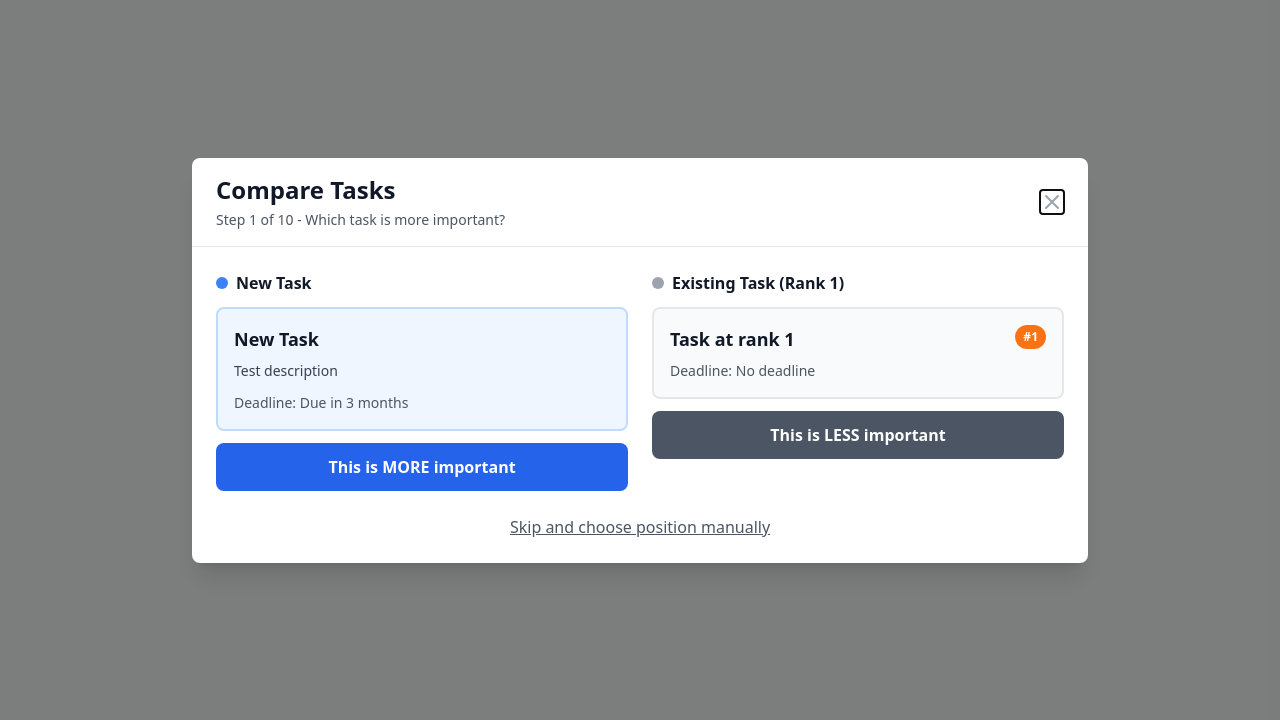
Scenario: ComparisonModal Integration Tests › Post-Insertion Feedback (T046B) › should show shift feedback when inserting at middle rank
This screenshot has width=1280, height=720.
Expected: the heading "Compare Tasks" is shown, [216,172,396,206]
// Skip to manual placement
Step 1. Click the button with test id "skip-button" → (640, 526), box [510,514,770,538]
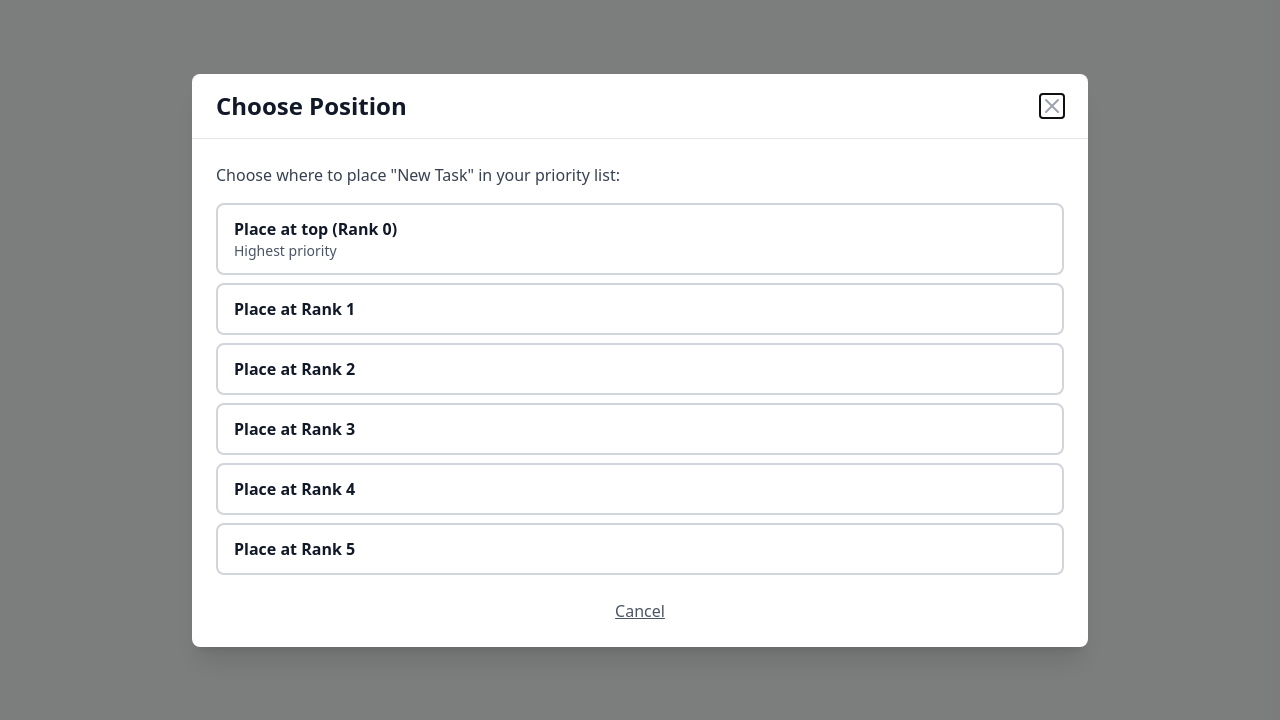
Expected: the heading "Choose Position" is shown, [216,90,407,122]
// Place at rank 1 (should shift tasks at 1 and 2 down)
Step 2. Click the button with test id "place-rank-1" → (290, 308), box [216,282,1064,334]
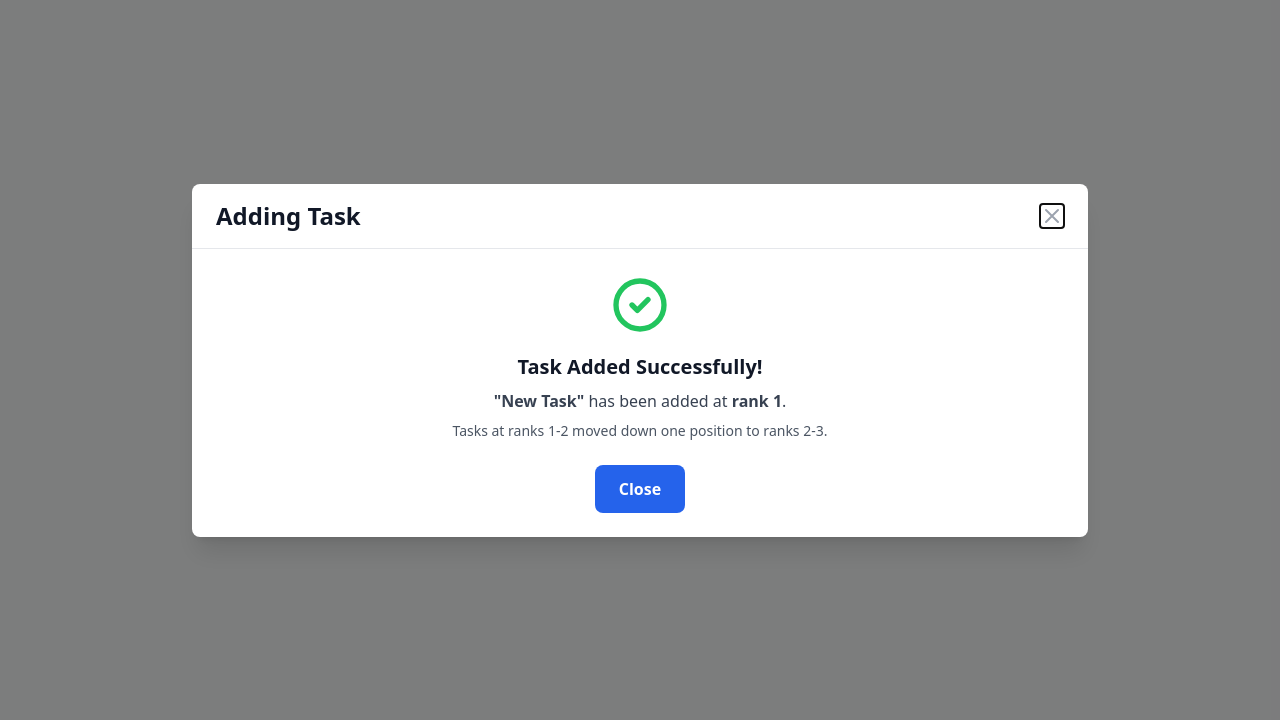
Expected: the heading "Task Added Successfully!" is shown, [518,352,762,380]
Expected: the text with test id "shift-feedback" shows "Tasks at ranks 1-2", [452,420,828,440]
Expected: the text with test id "shift-feedback" shows "moved down one position to ranks 2-3", [452,420,828,440]
